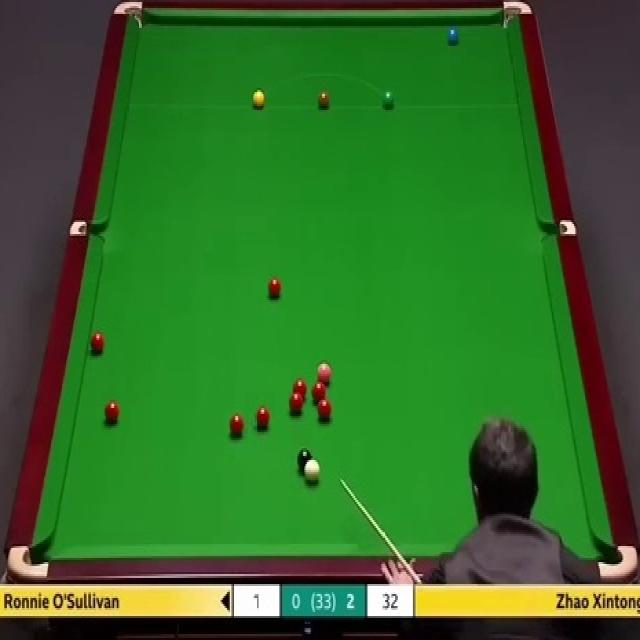pocket: (9, 546, 51, 583), (597, 543, 635, 580), (501, 0, 534, 31), (111, 0, 142, 29), (69, 218, 108, 238), (540, 220, 578, 238)
